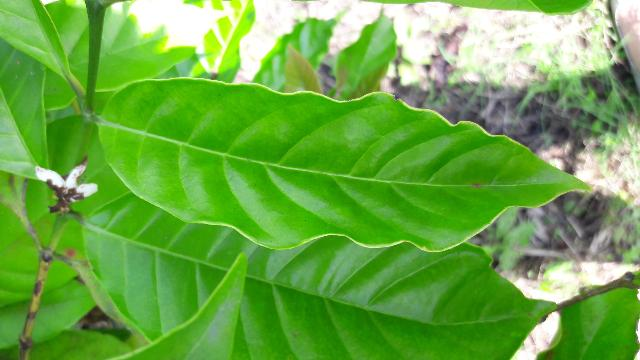healthy: (98, 79, 594, 250)
